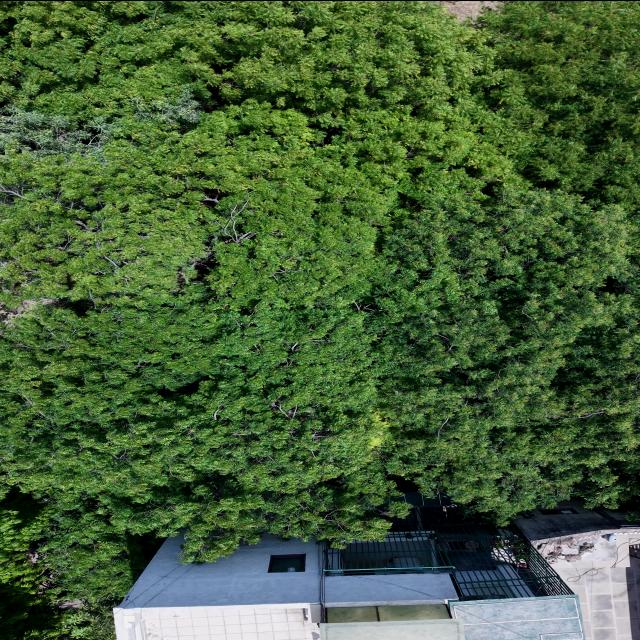ROOFTOP_BUILDING: (115, 494, 637, 639)
VEGETATION_TREE: (0, 1, 639, 639)
